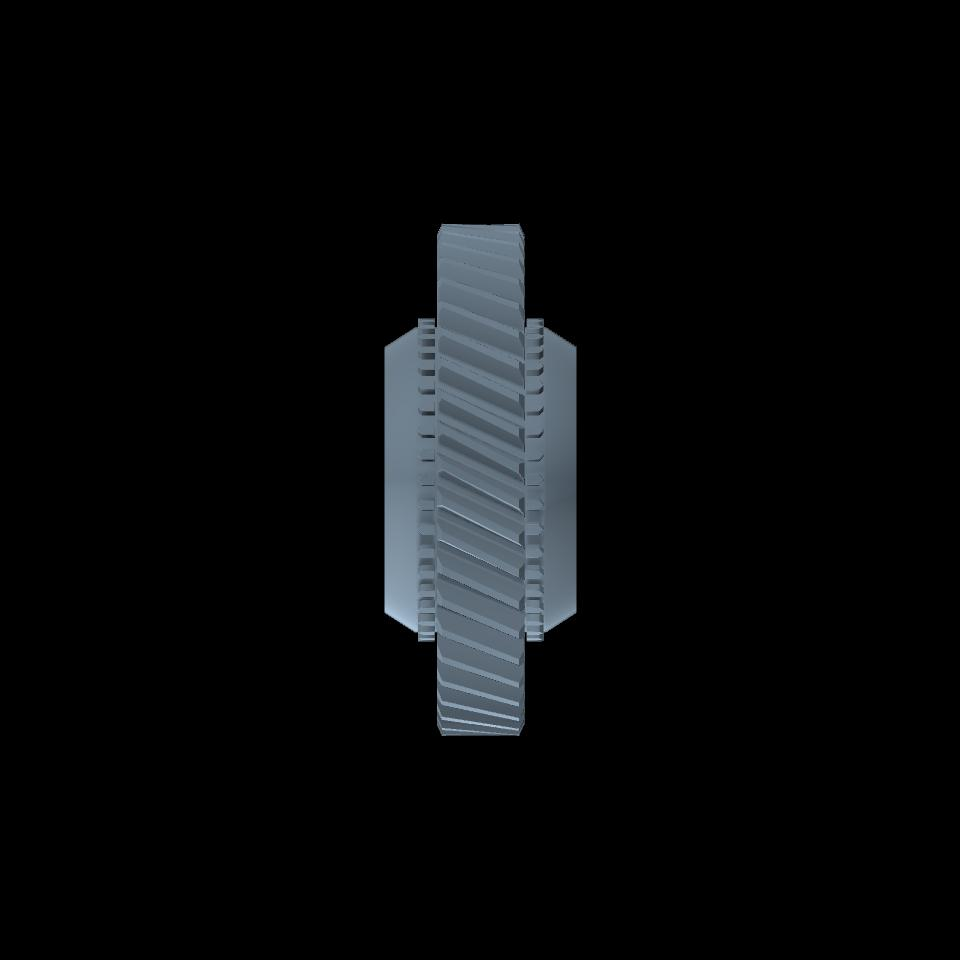Helical: (442, 224, 518, 733)
Straight: (424, 316, 434, 640), (528, 316, 538, 637)
